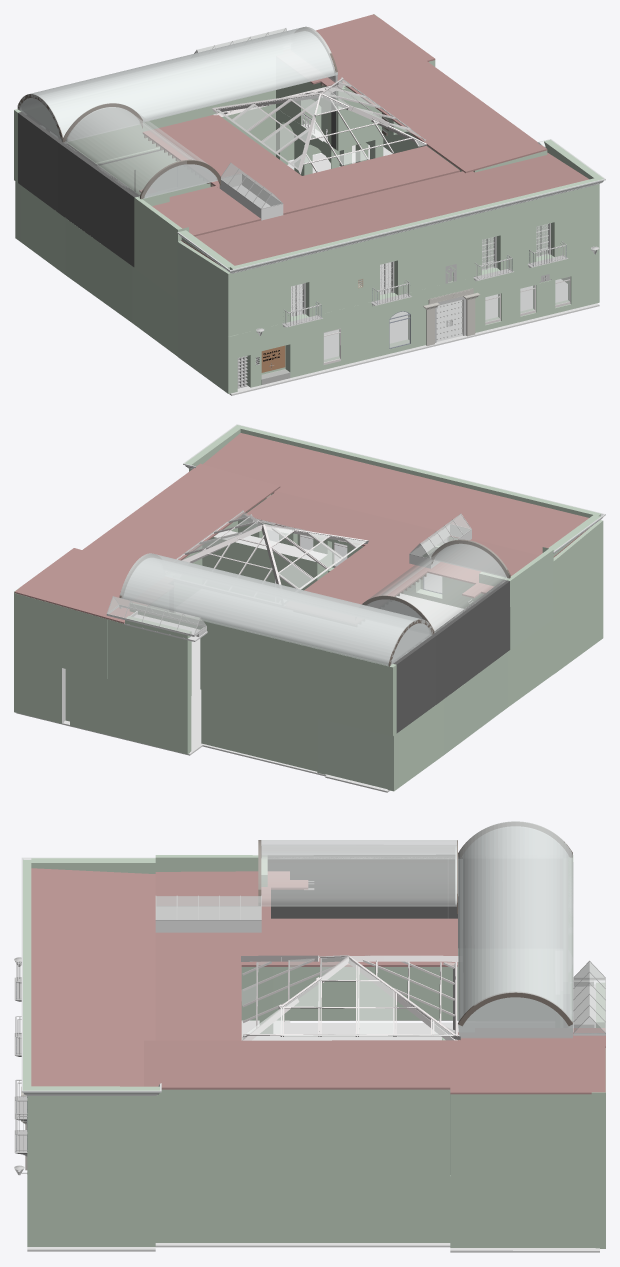
The model's file is museo.glb.
3 renders of one model, top to bottom at view 1: azimuth 30°, elevation 25°; view 2: azimuth 150°, elevation 25°; view 3: azimuth 270°, elevation 25°, orthographic. The views are drawn at different scales.
Parts seen in each view (by area): view 1: MUSEO DE LA MEMORIA- 3D View - {3D}; view 2: MUSEO DE LA MEMORIA- 3D View - {3D}; view 3: MUSEO DE LA MEMORIA- 3D View - {3D}.
Boxes of the visible parts, <box> form: MUSEO DE LA MEMORIA- 3D View - {3D}: <box>14,14,605,395</box>; MUSEO DE LA MEMORIA- 3D View - {3D}: <box>14,424,605,792</box>; MUSEO DE LA MEMORIA- 3D View - {3D}: <box>14,821,605,1252</box>.
Size of the model in its own units: 91.9 by 36.96 by 98.35.
